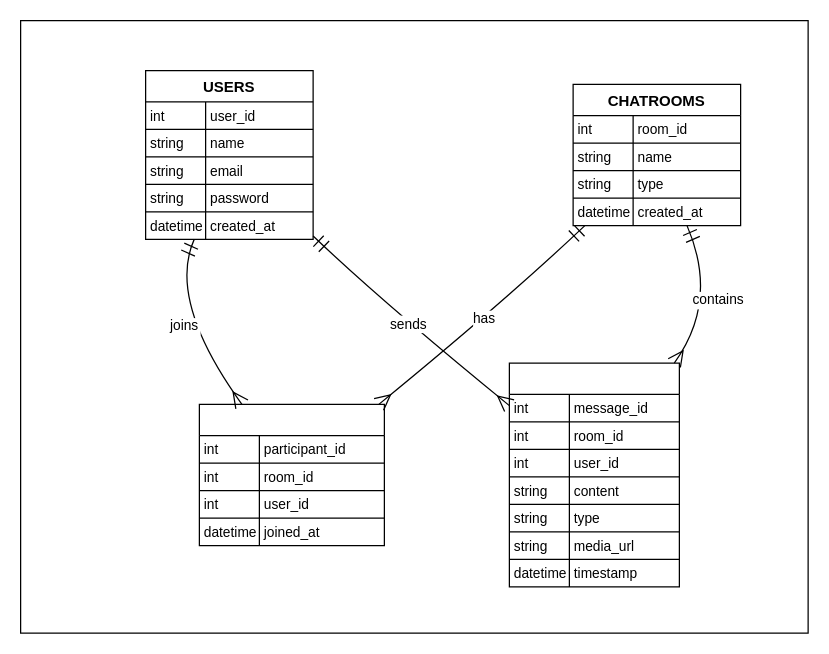
Image size: 829x654. Some labels were removed from this diagram. The shapes that lost their labels are listed below. From the top down, each one's box as (x1, y1, x2, y2) in pixels, then its label:
(198, 403, 384, 546): PARTICIPANTS
(508, 362, 679, 587): MESSAGES
